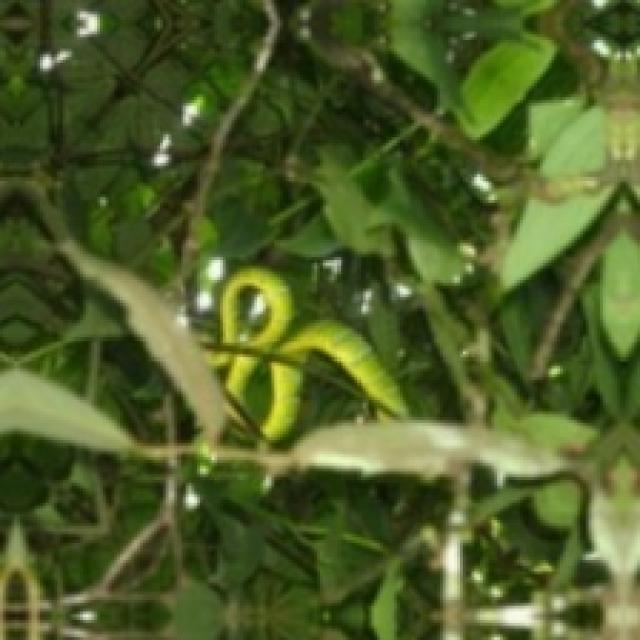north ph temple pitviper: (211, 269, 406, 440)
